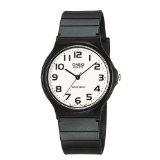watch: (36, 38, 122, 117)
